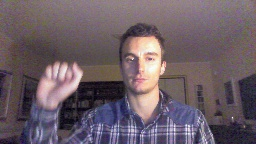Pugno: (32, 59, 84, 110)
